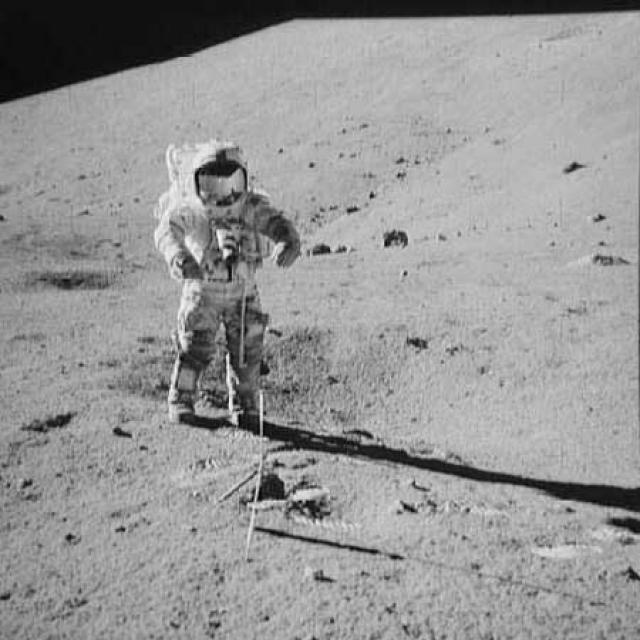artifact: (227, 326, 314, 547)
crater: (96, 325, 446, 422), (24, 268, 133, 295), (17, 402, 75, 430)
rock: (564, 247, 638, 272), (378, 218, 413, 254), (296, 552, 328, 587), (562, 154, 588, 179), (585, 210, 611, 230)
